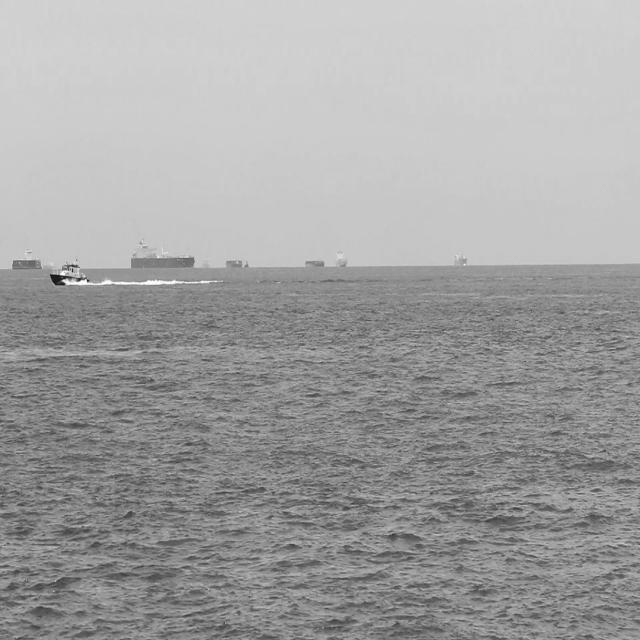ship: (128, 233, 193, 268), (49, 257, 91, 286), (11, 246, 44, 270), (452, 246, 467, 268), (334, 248, 348, 268), (305, 256, 325, 268), (202, 253, 214, 270), (43, 259, 59, 271), (225, 258, 244, 268), (243, 256, 250, 268)
